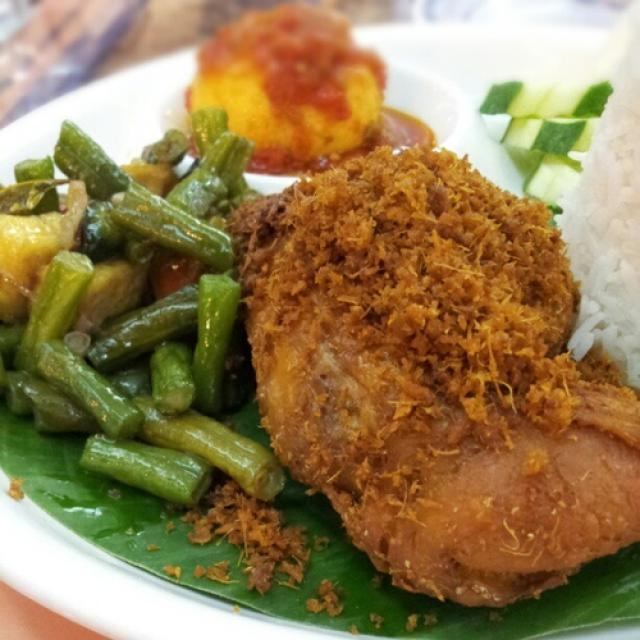鸡肉料理 含炸鸡: (18, 34, 587, 592)
